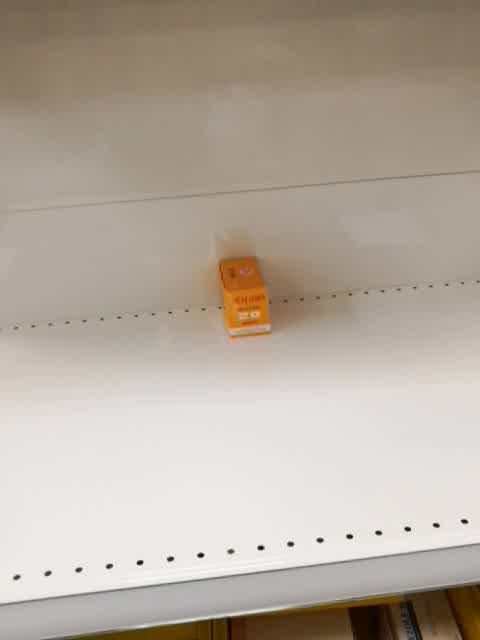jasminetea: (215, 253, 271, 339)
